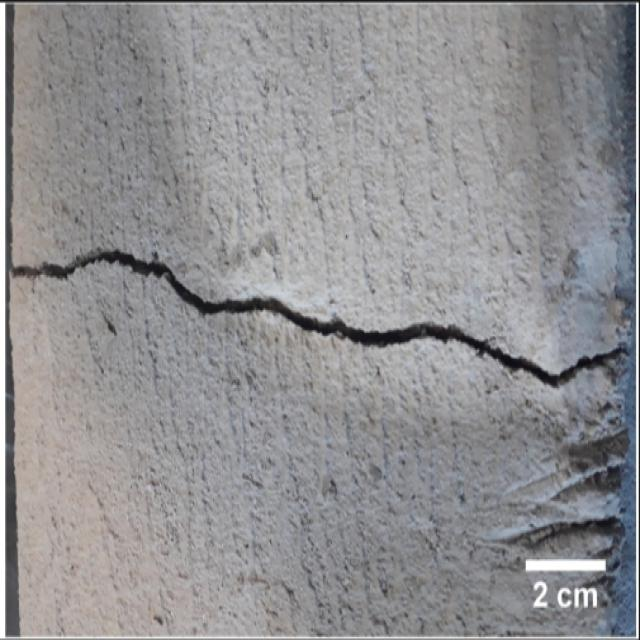cracks: (20, 242, 626, 428)
